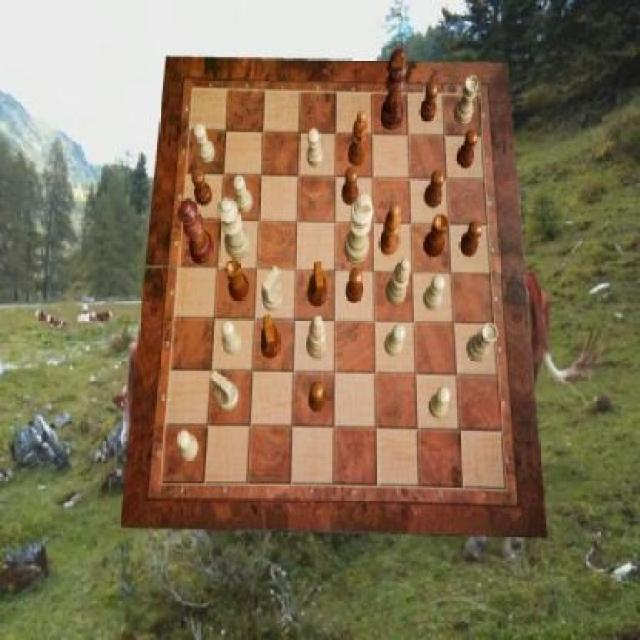bishop: (378, 205, 401, 257), (348, 111, 368, 167)
black-bishop: (380, 49, 408, 131)
black-king: (308, 261, 328, 307), (260, 315, 281, 358)
black-knight: (455, 129, 478, 168), (460, 220, 483, 258), (424, 171, 446, 208), (192, 170, 212, 206), (420, 83, 438, 123), (343, 166, 360, 204), (346, 268, 364, 302), (308, 382, 327, 412)
black-pawn: (178, 198, 214, 264)
black-queen: (423, 214, 449, 258), (226, 258, 251, 301)
black-rook: (386, 259, 411, 306), (306, 315, 327, 358)
white-bishop: (344, 193, 374, 264)
white-king: (211, 371, 240, 411), (262, 266, 282, 312)
white-knight: (193, 124, 214, 164), (423, 276, 445, 312), (234, 175, 254, 213), (384, 323, 406, 357), (429, 388, 452, 420), (177, 429, 199, 462), (222, 320, 242, 355), (308, 129, 324, 168)
white-pawn: (217, 197, 252, 259)
white-queen: (468, 323, 500, 363), (454, 76, 478, 124)
